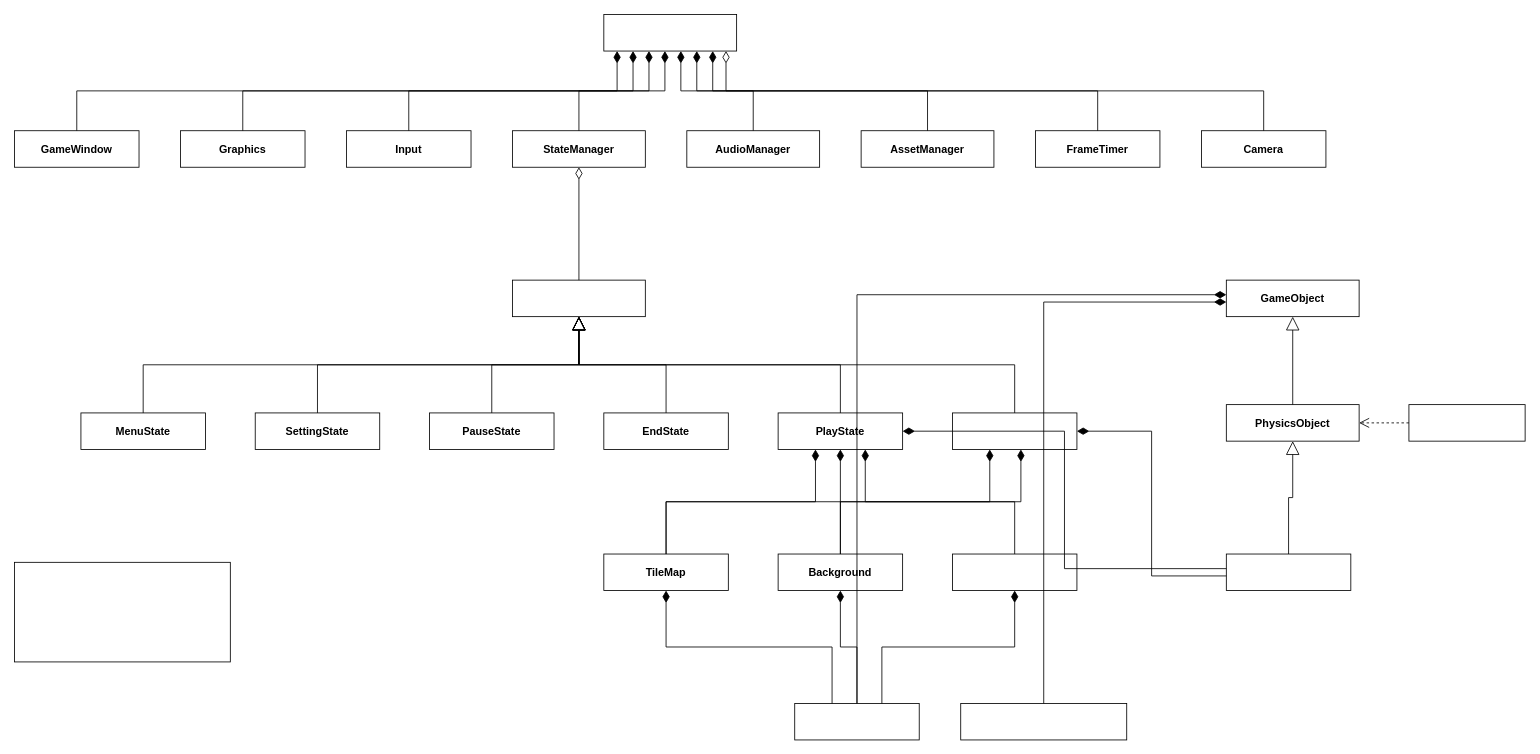
This 1540x754 diagram has some shape labels left out. The box of each missing label's shape, as (x1, y1, x2, y2) in pixels:
AnimationController: (960, 703, 1127, 740)
BossState: (952, 412, 1077, 449)
GameEngine: (603, 14, 737, 51)
GameState: (512, 279, 645, 317)
ItemManager: (952, 553, 1077, 591)
Physics: (1408, 404, 1525, 441)
Player: (1225, 553, 1351, 591)
Sprite: (794, 703, 919, 740)
UML ──▷ inheritance ◆─ composition ◇─ aggregation ──> dependency (dashed): (14, 561, 230, 662)
